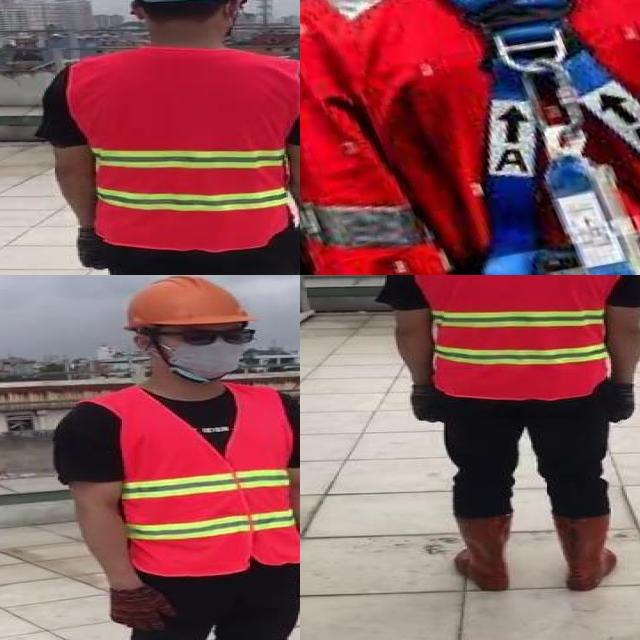Harness: (446, 0, 640, 275)
boots: (550, 511, 620, 590), (449, 514, 512, 593)
face_mask: (164, 321, 254, 378)
glasses: (165, 324, 259, 349)
hand_glove: (110, 586, 177, 633), (76, 228, 108, 270), (604, 382, 636, 423), (412, 382, 440, 424)
head_helmet: (106, 275, 254, 333)
person: (39, 275, 300, 640), (373, 275, 640, 599), (33, 0, 300, 275)
vest: (68, 47, 298, 248), (122, 383, 300, 576), (413, 275, 612, 397)
